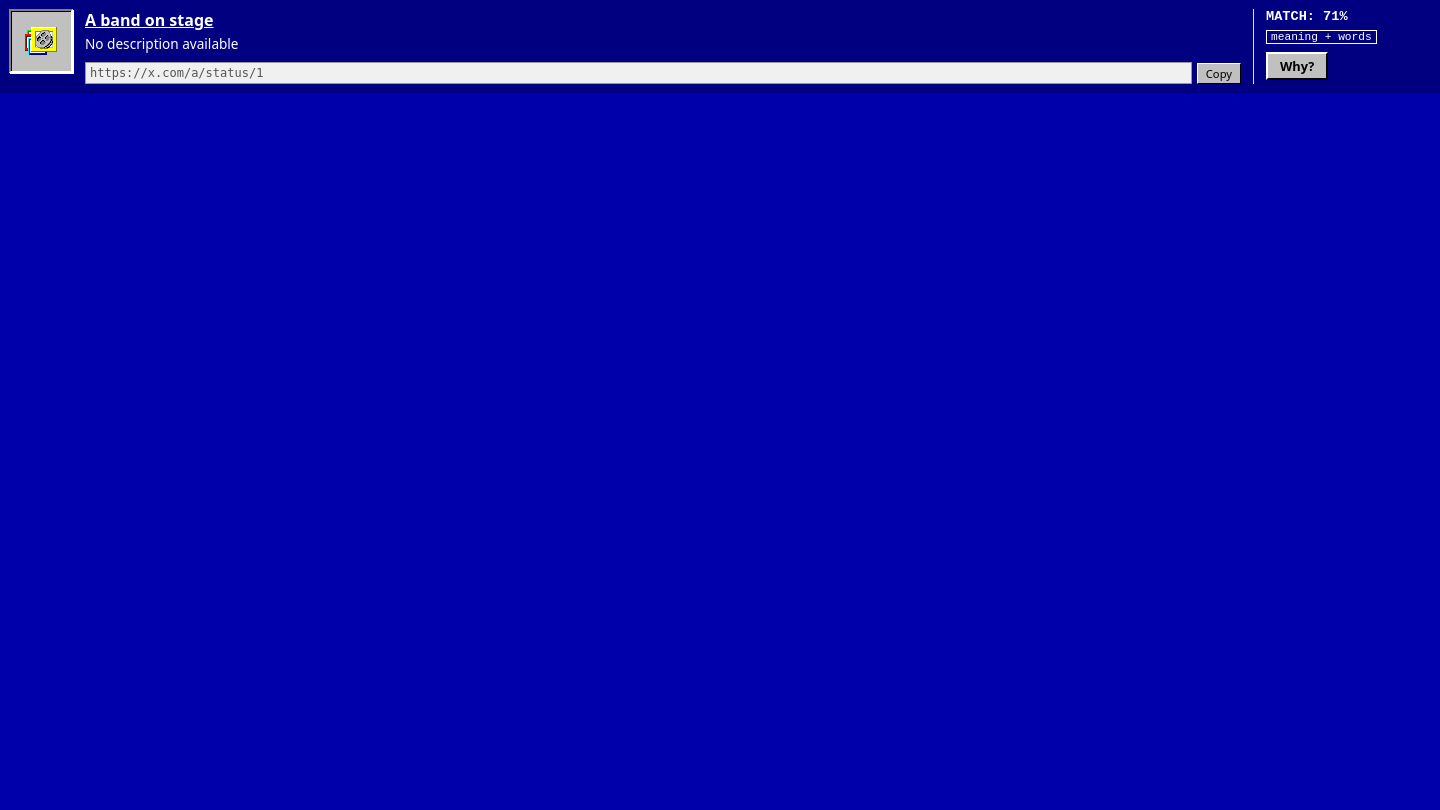
it: the results of a search › should show where the words were found, with each of them marked
Click the button "Why?". click: (1297, 66)
box: [1266,52,1328,80]
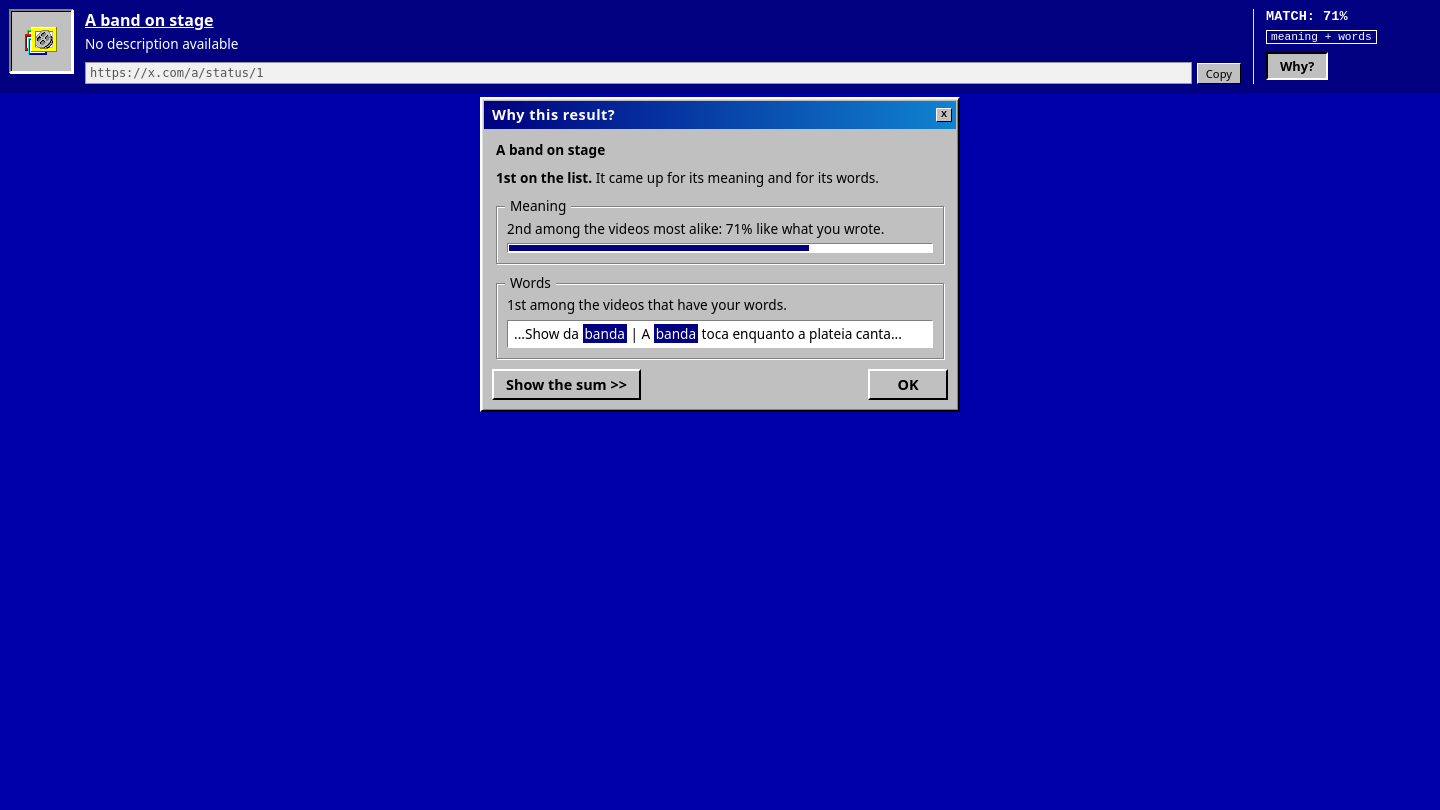
Now the element "Words" shows "...Show da banda | A banda toca enquanto a plateia canta...", box [496,274,944,359]
